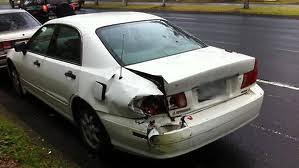quaterpanel-dent: (82, 71, 166, 153)
